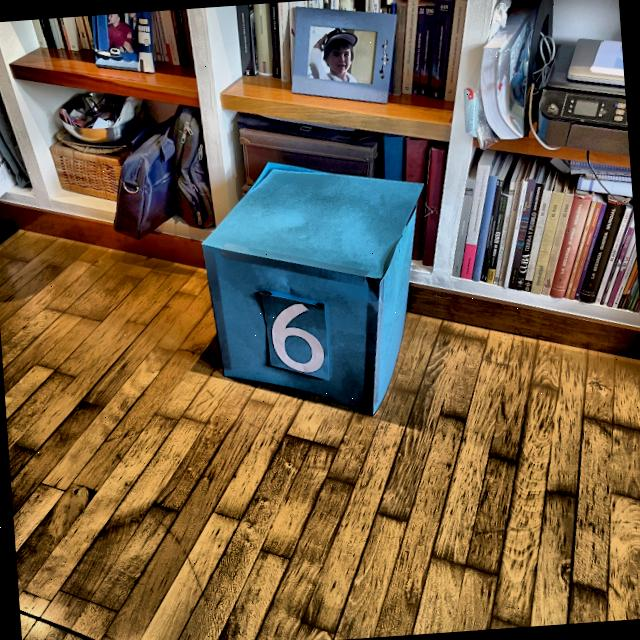blue box: (192, 143, 439, 428)
six: (261, 290, 332, 382)
